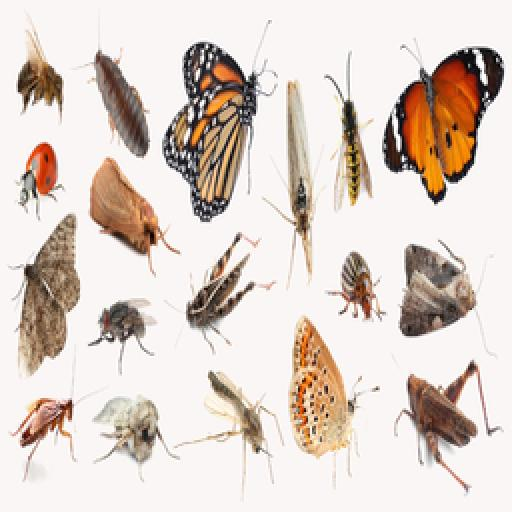insects: (382, 44, 506, 208), (162, 40, 272, 224), (14, 212, 84, 382), (288, 314, 360, 470), (398, 358, 494, 474), (86, 156, 174, 268), (182, 226, 262, 340), (204, 368, 286, 476), (398, 240, 484, 342), (280, 74, 318, 288), (326, 72, 376, 220), (88, 392, 174, 478), (90, 46, 152, 162), (10, 392, 80, 474), (90, 296, 156, 374), (328, 248, 386, 326), (16, 26, 66, 116), (16, 140, 64, 224)
